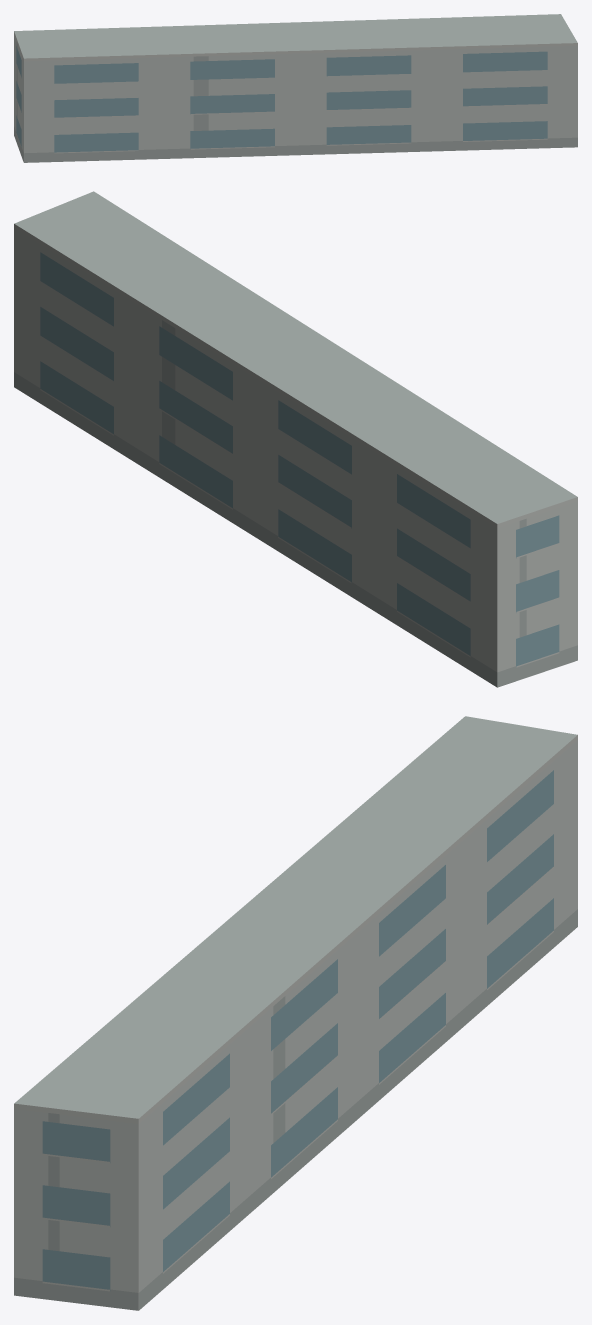
The model's file is survey-upis-33035848.glb.
The picture shows the model from 3 angles, top to bottom: view 1: azimuth 30°, elevation 25°; view 2: azimuth 150°, elevation 25°; view 3: azimuth 270°, elevation 25°; orthographic projection. The views are drawn at different scales.
Parts seen in each view (by area): view 1: survey-upis-33035848.tmp; view 2: survey-upis-33035848.tmp; view 3: survey-upis-33035848.tmp.
Part boxes in pixels (left/top/right/bottom): survey-upis-33035848.tmp: left=14, top=14, right=577, bottom=162; survey-upis-33035848.tmp: left=14, top=191, right=577, bottom=687; survey-upis-33035848.tmp: left=14, top=716, right=577, bottom=1310.
Size of the model in its own units: 41.17 by 9.15 by 24.36.
